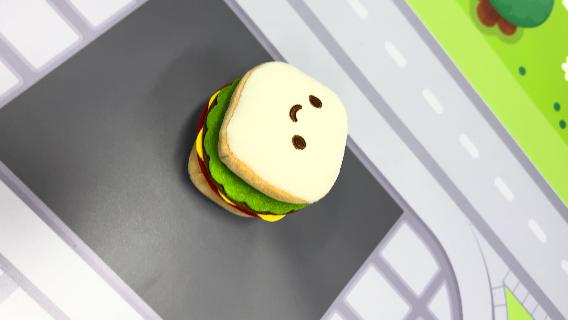sandwich: (187, 59, 351, 223)
